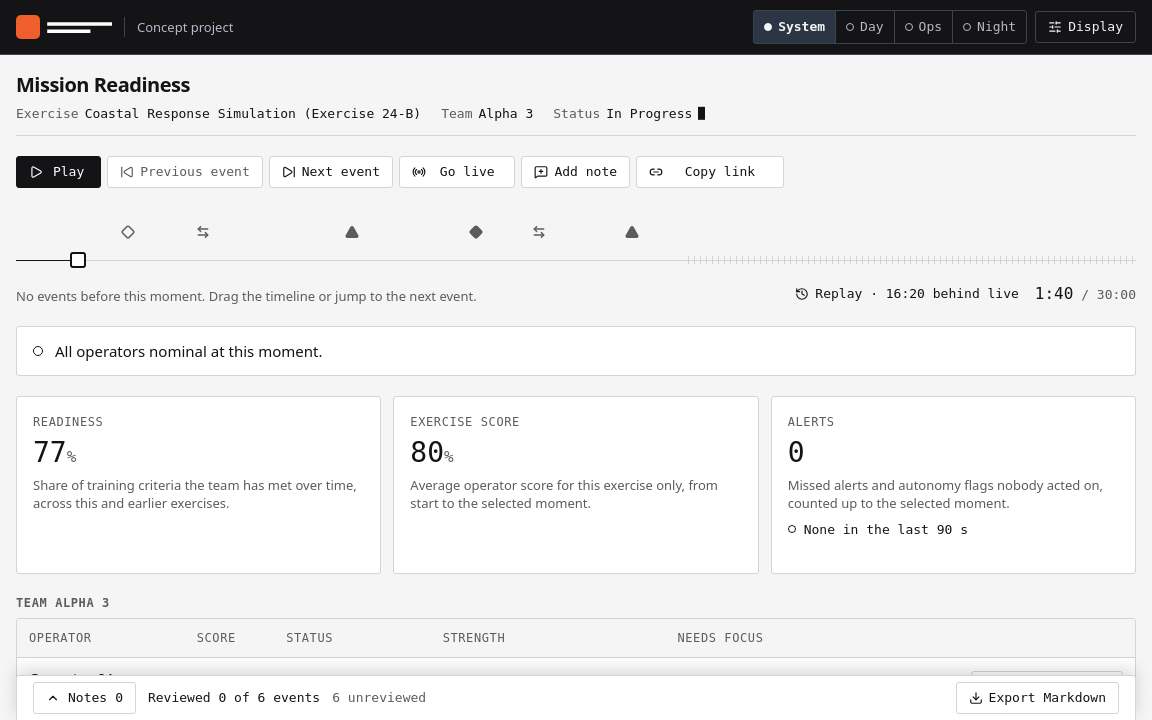
notes sheet › Escape folds it away and returns focus to its bar button
Click the button "Notes 0". click: (84, 698)
box: [33,682,136,714]
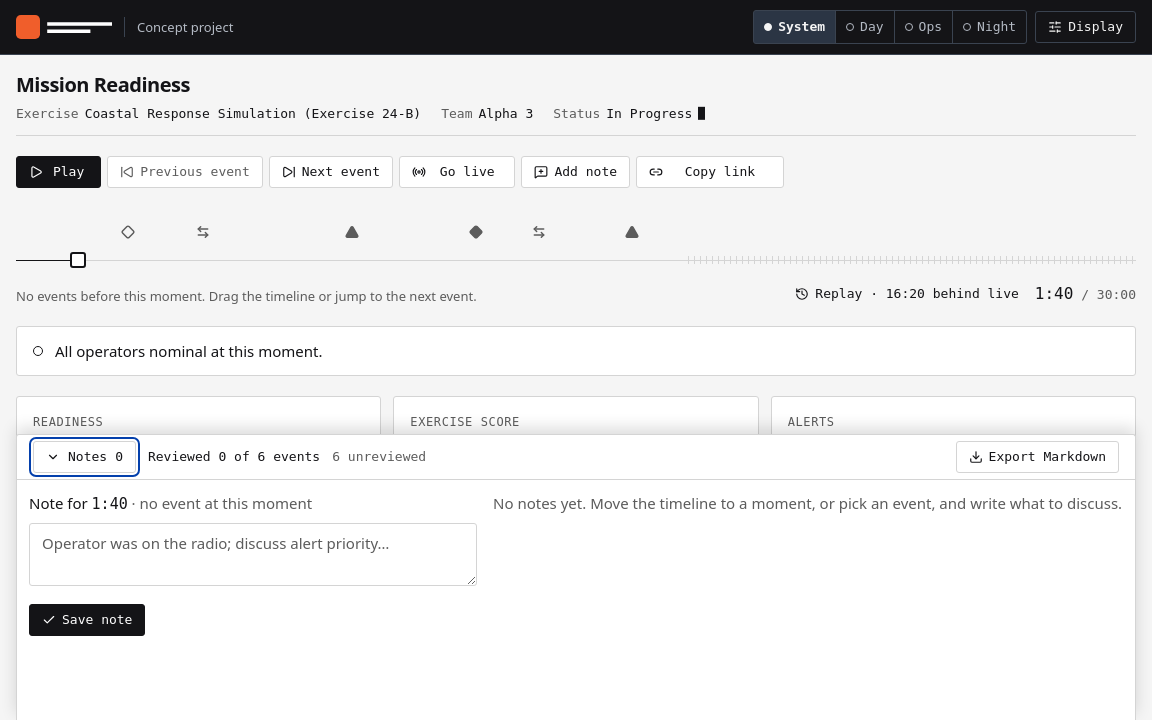
Click the text box named "Note". click: (253, 555)
box: [29,524,477,586]
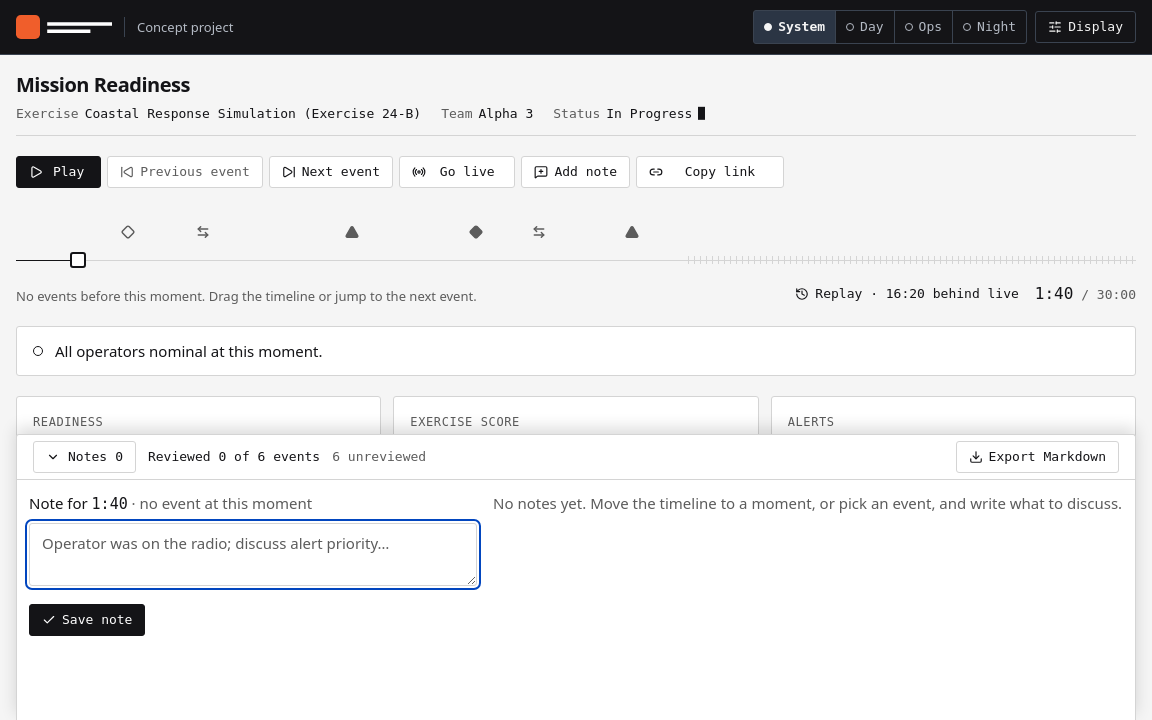
Press Escape
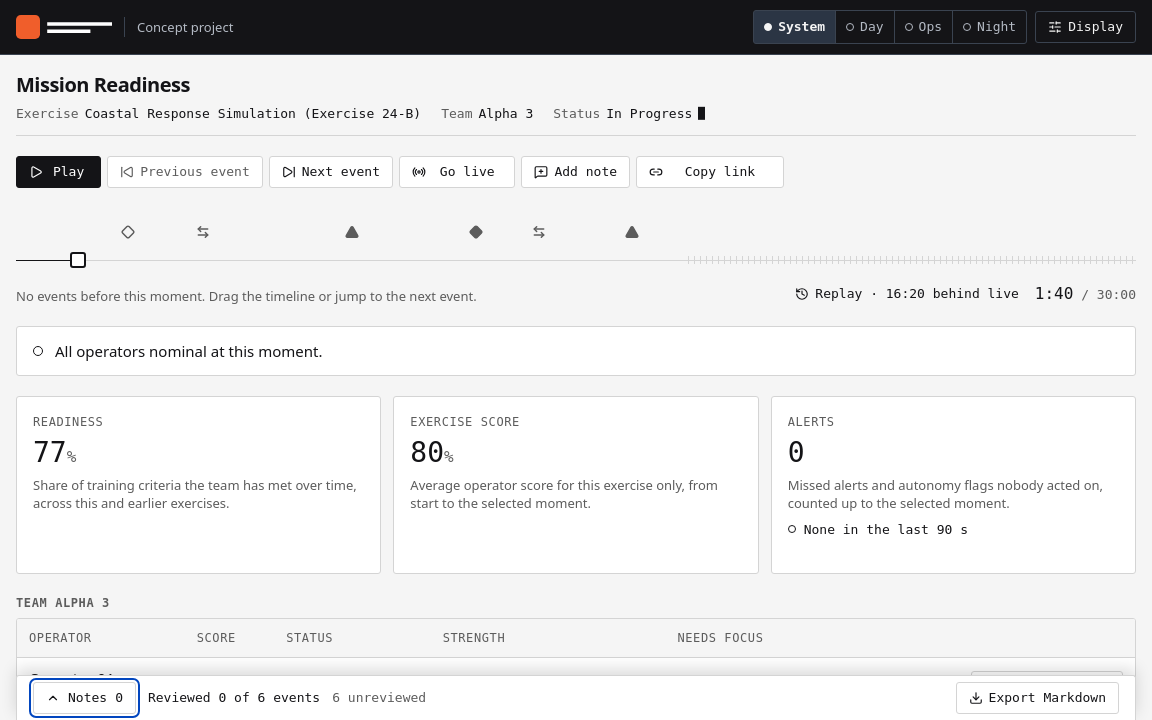
Expected: the button "Notes 0" is collapsed, [33,682,136,714]
